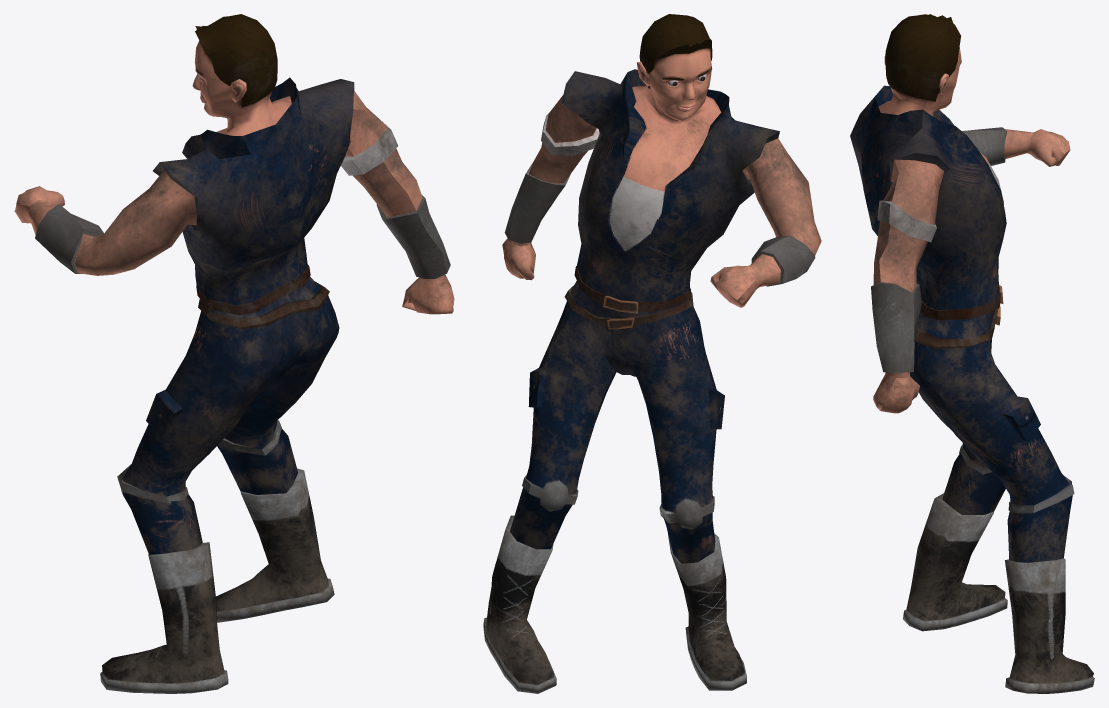
File: Anim_ataque_f3_jugador.0038.obj
3 renders of one model, left to right at view 1: azimuth 30°, elevation 25°; view 2: azimuth 150°, elevation 25°; view 3: azimuth 270°, elevation 25°, orthographic. The views are drawn at different scales.
Visible parts, largest first — view 1: polySurface1; view 2: polySurface1; view 3: polySurface1.
Boxes of the visible parts, bbox=[...] form: polySurface1: bbox=[14, 14, 454, 693]; polySurface1: bbox=[483, 14, 821, 693]; polySurface1: bbox=[850, 14, 1094, 693].
Bounding box in the file's own units: 5.15 × 9.31 × 3.26.
